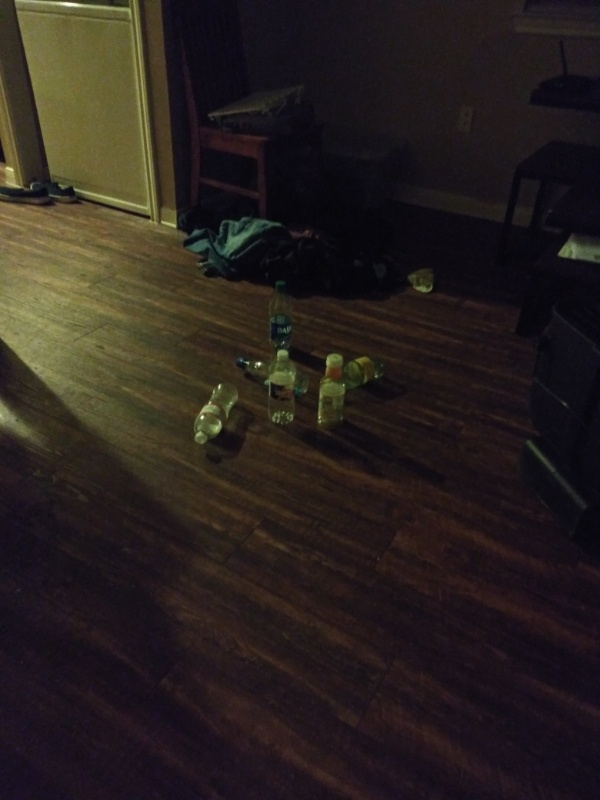bottle: (191, 377, 241, 447), (231, 354, 310, 397), (263, 344, 299, 430), (311, 352, 346, 434), (262, 278, 299, 346), (343, 351, 390, 394)
